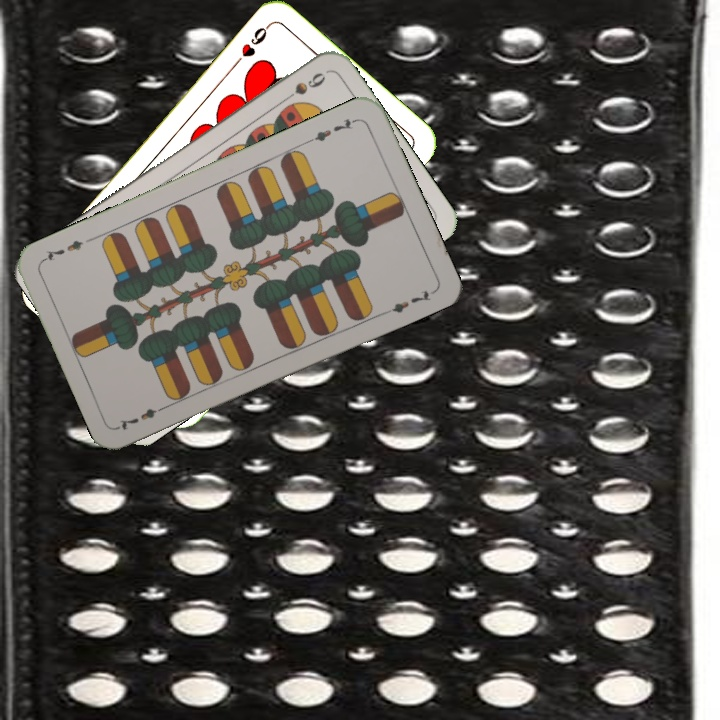E7: (304, 114, 360, 146), (115, 401, 171, 433)
H9: (230, 20, 273, 69)
S9: (276, 68, 329, 107)
